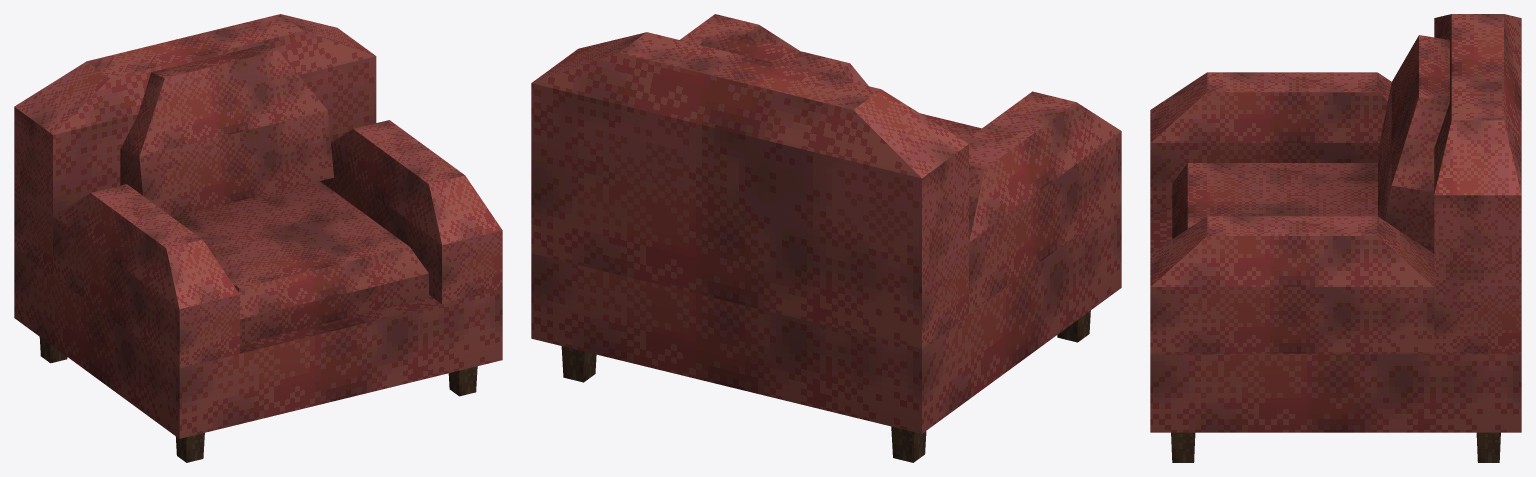
File: armchair_red.glb
3 renders of one model, left to right at view 1: azimuth 30°, elevation 25°; view 2: azimuth 150°, elevation 25°; view 3: azimuth 270°, elevation 25°, orthographic. The views are drawn at different scales.
Parts seen in each view (by area): view 1: armchair_red; view 2: armchair_red; view 3: armchair_red.
Boxes of the visible parts, x1,y1,x2,y2 form: armchair_red: [14, 14, 502, 462]; armchair_red: [531, 14, 1121, 462]; armchair_red: [1150, 14, 1521, 462].
Bounding box in the file's own units: 0.96 × 0.8029 × 0.85.
Materials: 1 (1 with a texture image).
